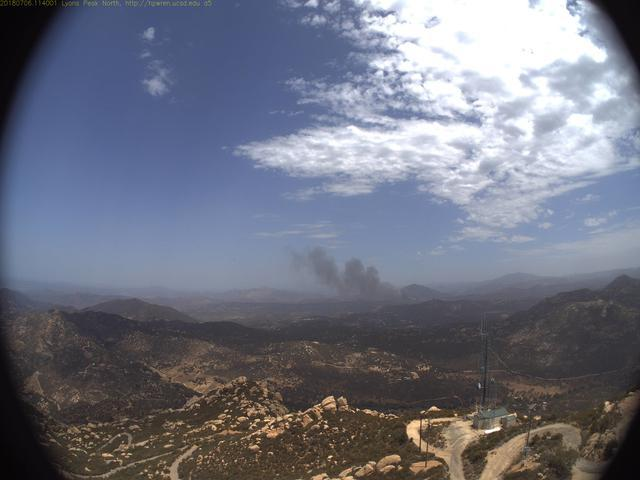smoke: (284, 241, 417, 319)
